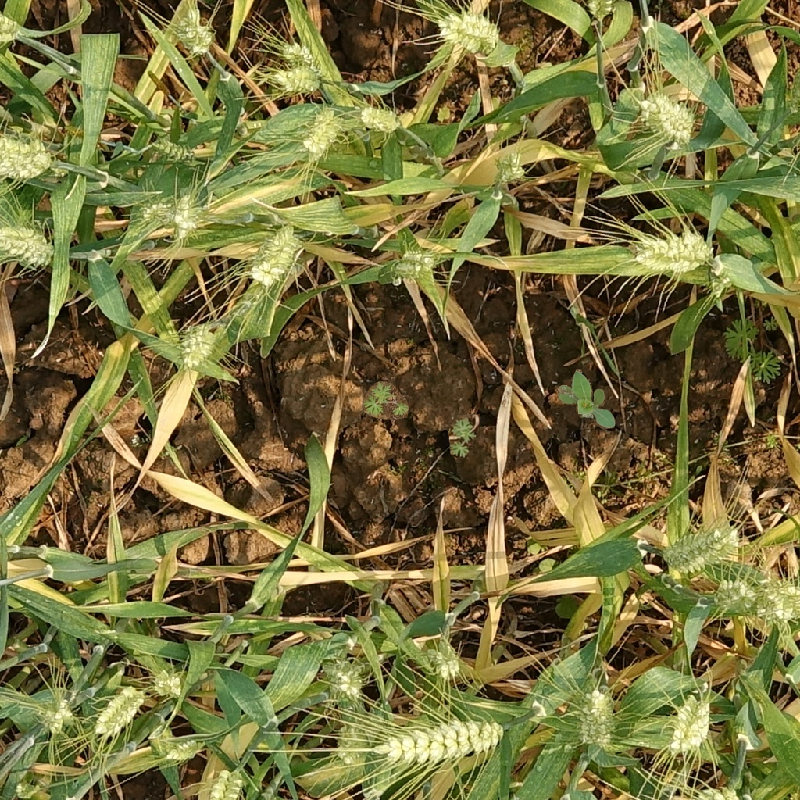spikelet: (375, 714, 505, 771), (661, 518, 742, 575), (628, 227, 714, 275), (246, 221, 305, 288), (636, 87, 699, 147), (665, 689, 715, 756), (435, 6, 503, 55), (572, 682, 619, 750), (375, 241, 442, 287), (92, 682, 147, 737), (1, 131, 55, 182), (297, 102, 345, 159), (1, 220, 56, 269), (319, 652, 369, 705), (31, 682, 80, 736), (177, 318, 226, 369), (166, 186, 211, 240), (170, 11, 217, 58), (710, 575, 759, 619), (757, 574, 800, 624), (420, 636, 465, 682), (356, 100, 403, 137), (271, 63, 324, 94), (203, 764, 248, 799), (150, 134, 200, 165), (491, 148, 528, 189), (277, 37, 321, 71), (148, 663, 188, 700), (161, 733, 206, 764), (1, 5, 23, 51), (583, 1, 621, 22)
weed: (558, 369, 616, 430), (729, 320, 783, 385), (362, 381, 409, 420), (448, 414, 480, 459)
